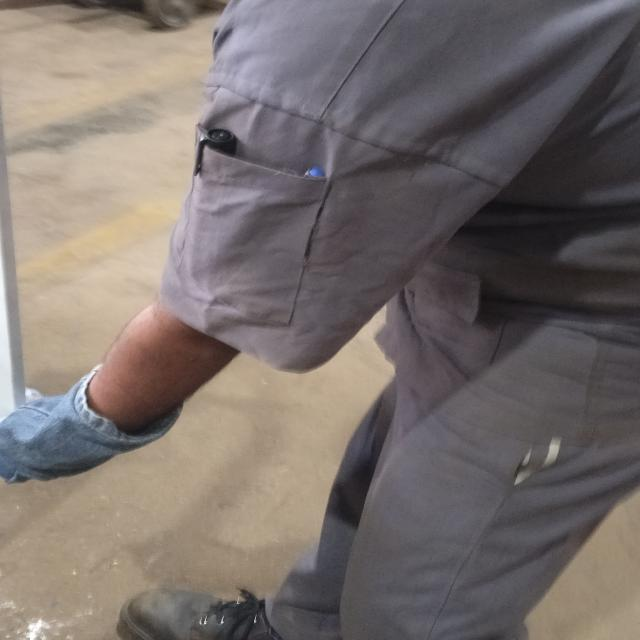Gloves-Detection: (10, 373, 174, 489)
